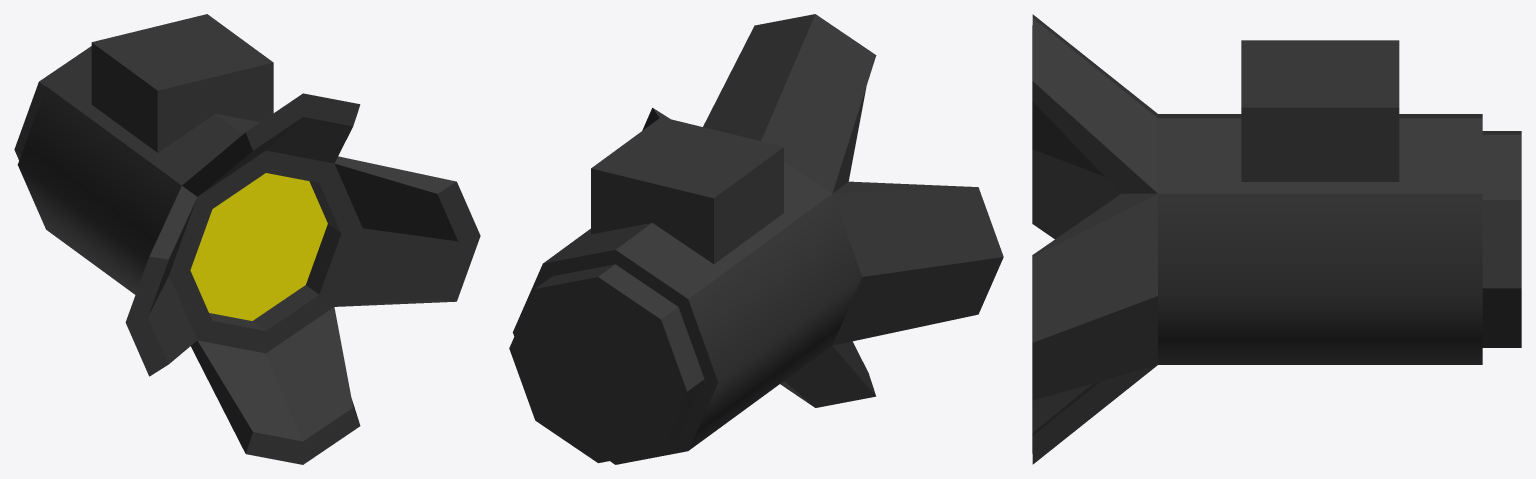
File: StageLight.FBX
The picture shows the model from 3 angles, left to right: view 1: azimuth 30°, elevation 25°; view 2: azimuth 150°, elevation 25°; view 3: azimuth 270°, elevation 25°; orthographic projection. The views are drawn at different scales.
Visible parts, largest first — view 1: Cylinder001; view 2: Cylinder001; view 3: Cylinder001.
Boxes of the visible parts, box(x1,y1,x2,y2) form: Cylinder001: box(14, 14, 480, 464); Cylinder001: box(509, 14, 1003, 464); Cylinder001: box(1032, 14, 1521, 464).
Bounding box in the file's own units: 30.88 × 30.88 × 30.86.
1 material, 1 textured.
